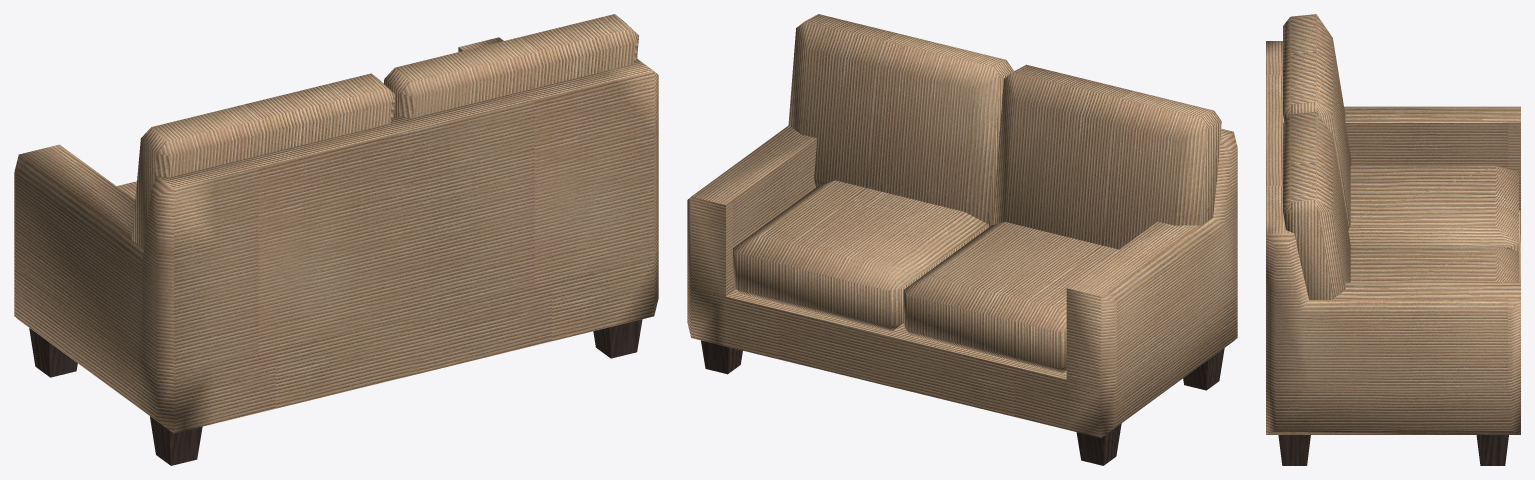
File: sofa.glb
3 views of the same model, side by side, from view 1: azimuth 30°, elevation 25°; view 2: azimuth 150°, elevation 25°; view 3: azimuth 270°, elevation 25° (orthographic). The views are drawn at different scales.
Parts seen in each view (by area): view 1: Armchair_08; view 2: Armchair_08; view 3: Armchair_08.
Part boxes in pixels (x1,y1,x2,y2): Armchair_08: (14,14,658,465); Armchair_08: (687,14,1237,465); Armchair_08: (1266,14,1520,465).
Bounding box in the file's own units: 1.6 × 0.9839 × 0.8552.
Materials: 2 (2 with a texture image).
